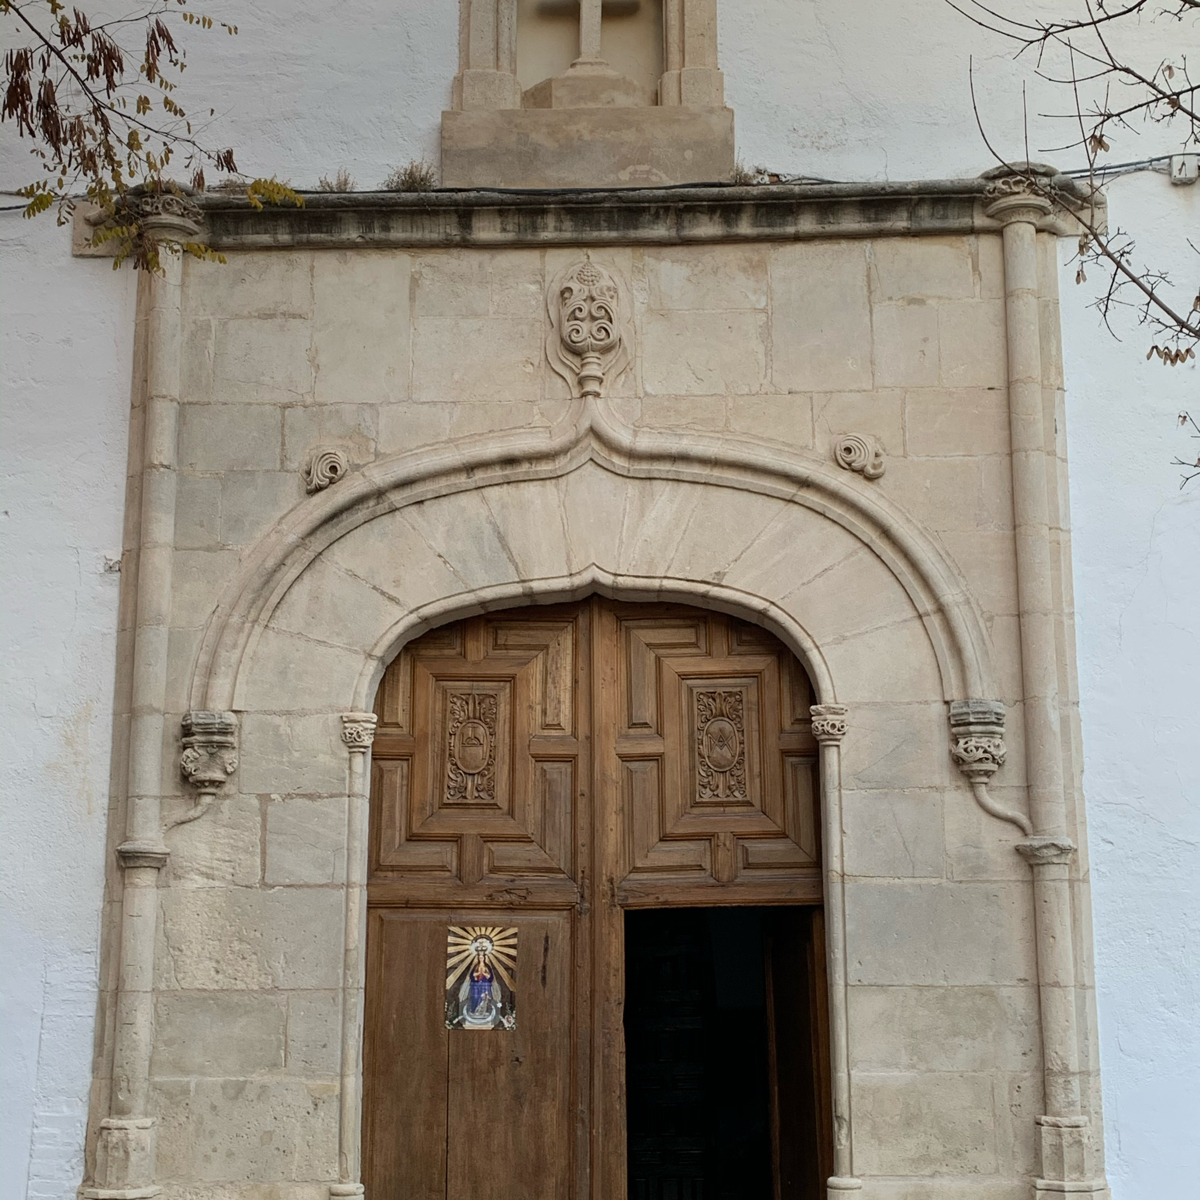arco-conopial: (262, 390, 957, 540), (376, 553, 810, 643)
